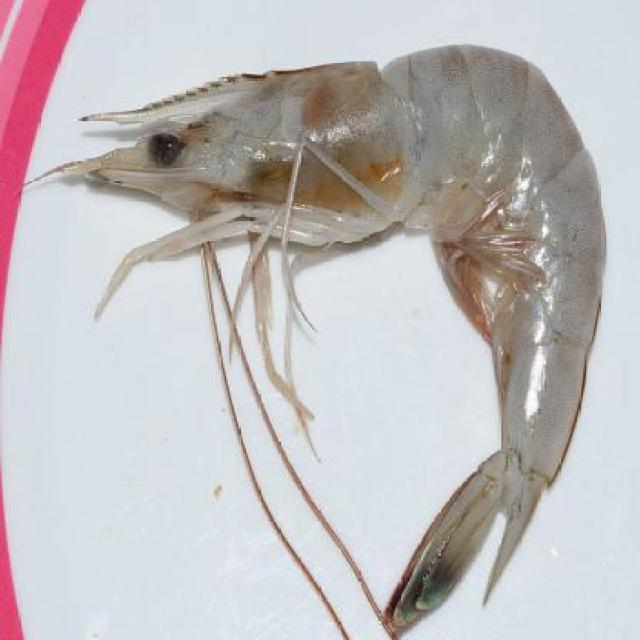shrimp: (28, 30, 613, 632)
